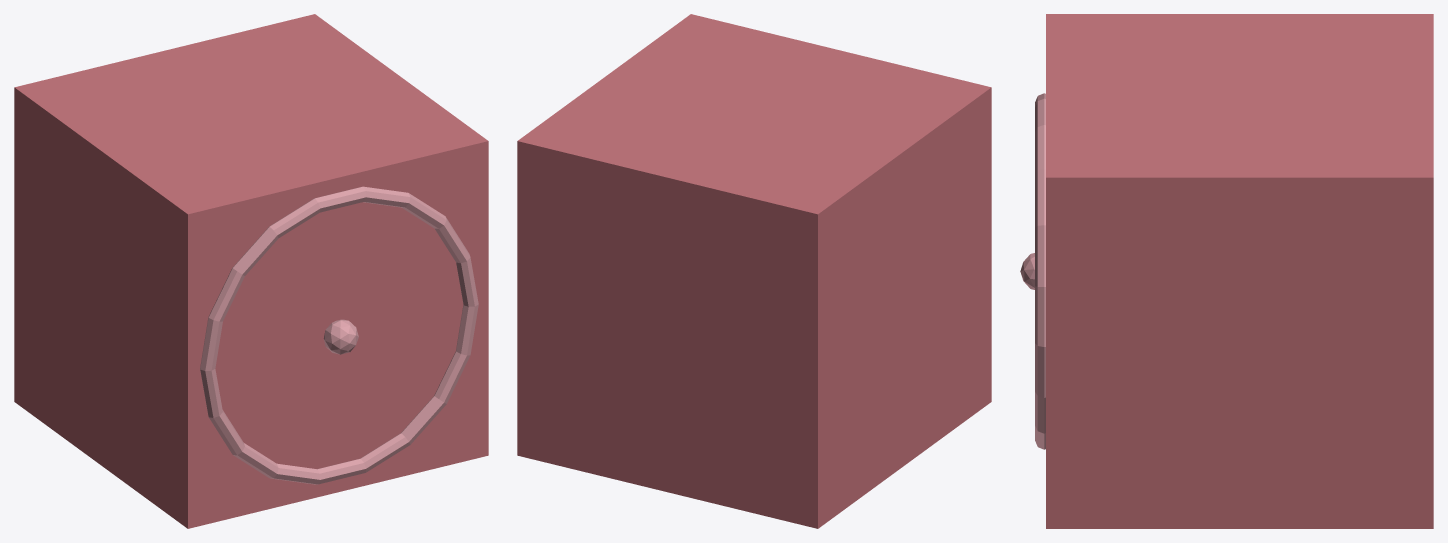
File: vampir.glb
The picture shows the model from 3 angles, left to right: view 1: azimuth 30°, elevation 25°; view 2: azimuth 150°, elevation 25°; view 3: azimuth 270°, elevation 25°; orthographic projection. The views are drawn at different scales.
Visible parts, largest first — view 1: world; view 2: world; view 3: world.
Part boxes in pixels (<box>): world: <box>14,14,488,528</box>; world: <box>517,14,991,528</box>; world: <box>1020,14,1433,528</box>.
Size of the model in its own units: 1.05 by 1.05 by 1.12.
